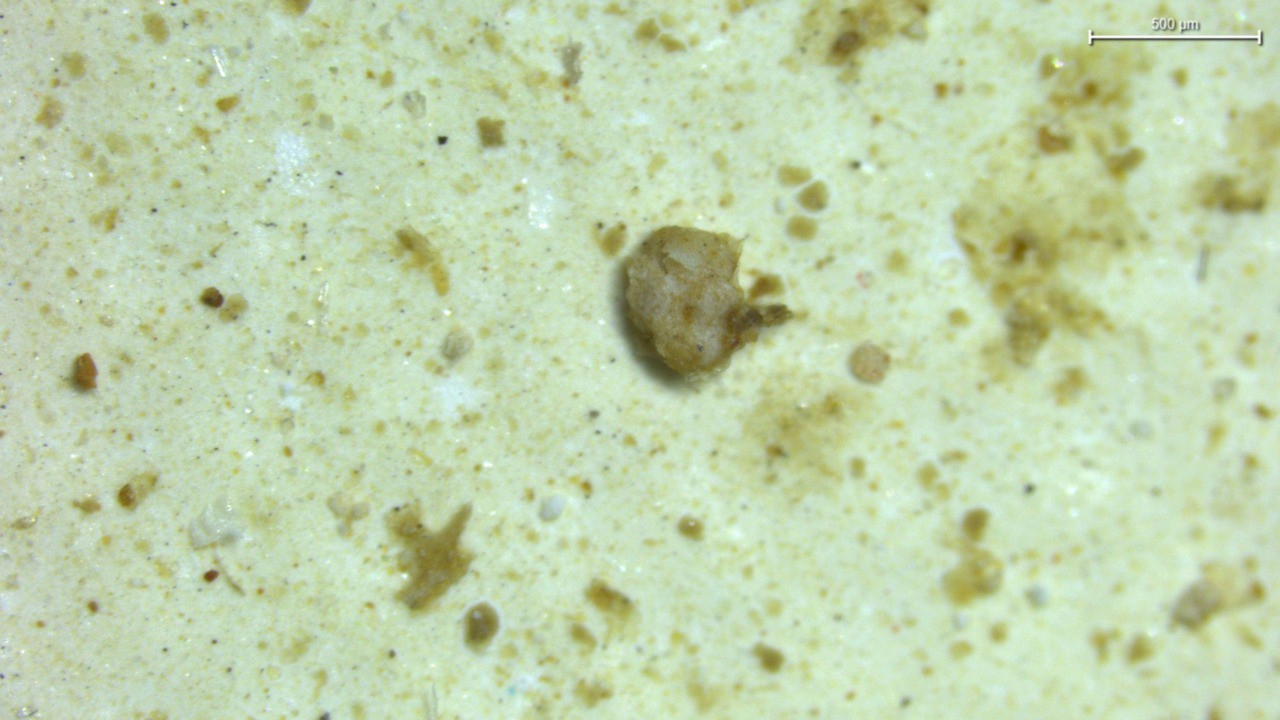microplastic_fragment: (623, 226, 786, 374), (190, 497, 244, 548)
